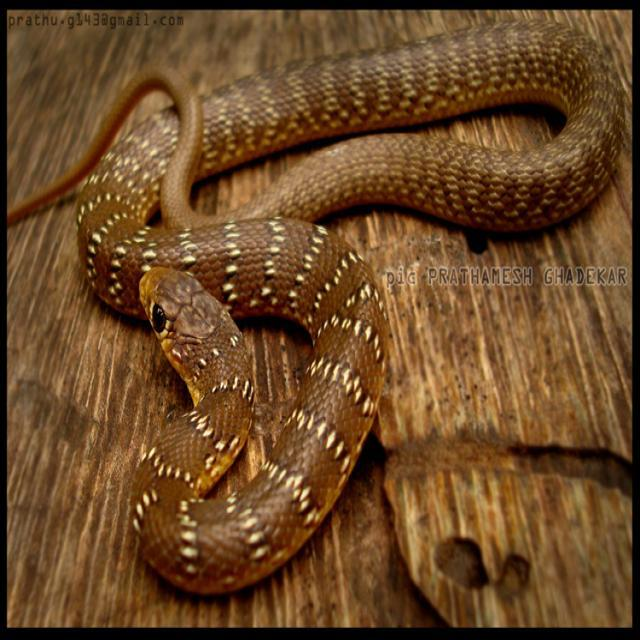Snake: (8, 16, 628, 596)
